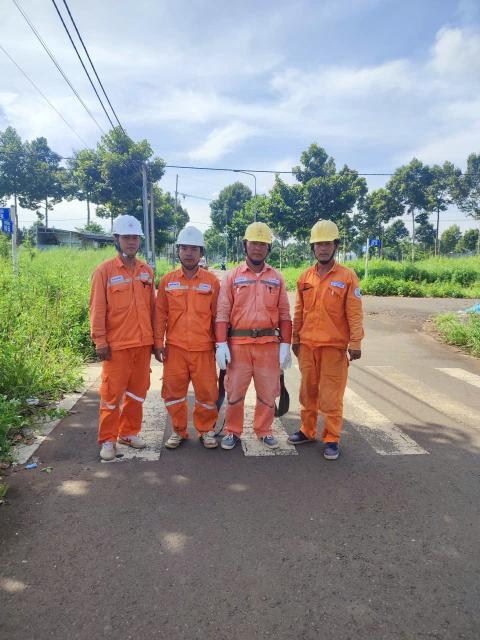gloves: (276, 346, 300, 373), (214, 345, 233, 370)
harness: (226, 322, 280, 342)
helmet: (239, 218, 276, 247), (173, 221, 207, 250), (112, 213, 147, 241), (309, 220, 341, 244)
shoes: (162, 424, 189, 450), (90, 442, 120, 462), (116, 431, 144, 451), (217, 428, 243, 449), (323, 435, 342, 463), (256, 434, 282, 453), (288, 434, 316, 451), (195, 431, 217, 448)
